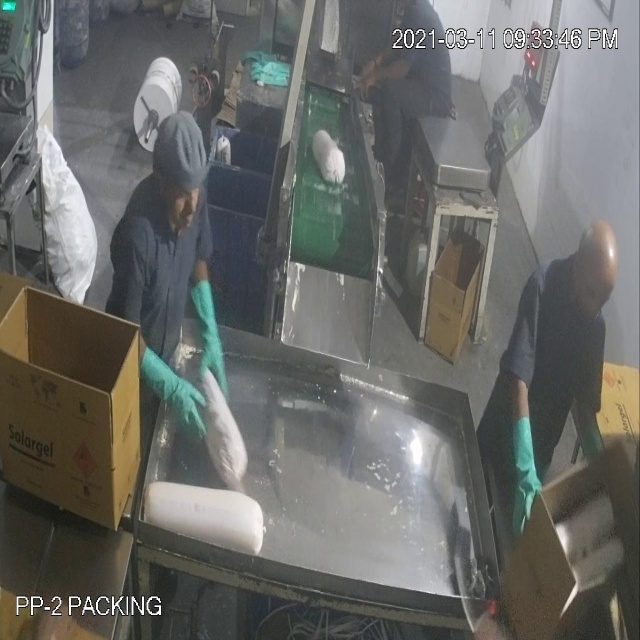Guantes: (578, 399, 614, 498), (511, 415, 541, 532)
Sin_guantes: (364, 49, 419, 114)
